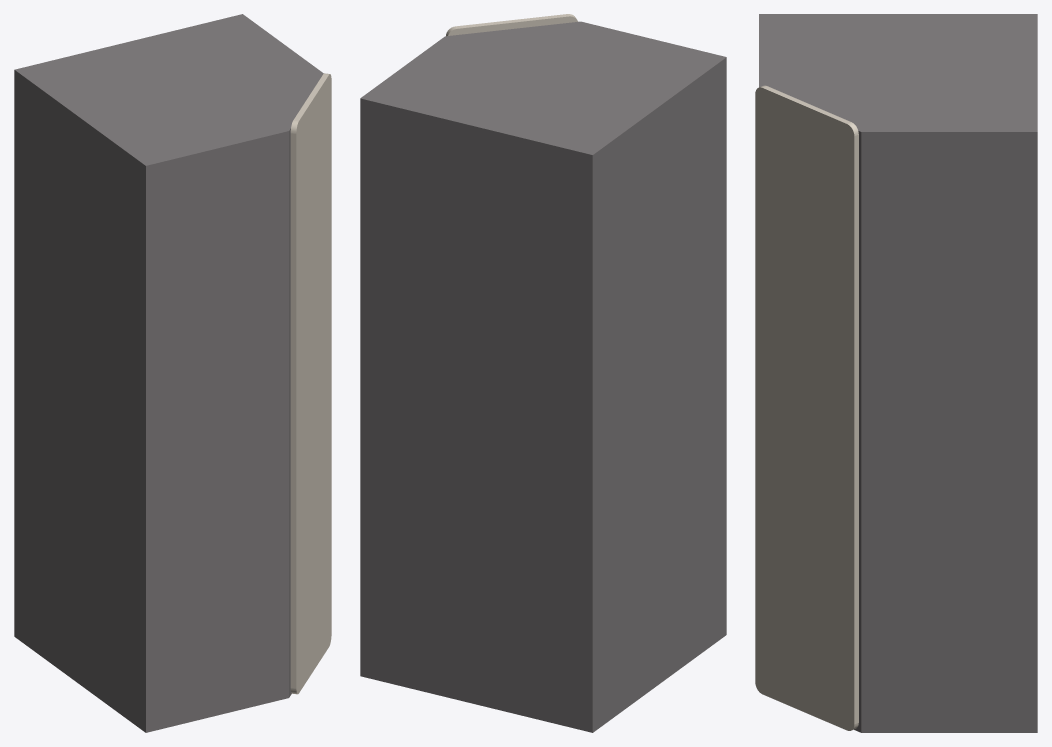
The model's file is 2pir_szafa_narozna.obj.
The picture shows the model from 3 angles, left to right: view 1: azimuth 30°, elevation 25°; view 2: azimuth 150°, elevation 25°; view 3: azimuth 270°, elevation 25°; orthographic projection. The views are drawn at different scales.
Visible parts, largest first — view 1: Line01, Rectangle10; view 2: Line01, Rectangle10; view 3: Line01, Rectangle10.
Part boxes in pixels (x1=…): Line01: x1=14, y1=14, x2=323, y2=732; Rectangle10: x1=290, y1=73, x2=331, y2=694; Line01: x1=360, y1=21, x2=726, y2=732; Rectangle10: x1=446, y1=14, x2=577, y2=36; Line01: x1=759, y1=14, x2=1037, y2=732; Rectangle10: x1=755, y1=85, x2=858, y2=730.
Bounding box in the file's own units: 91.21 × 216 × 91.25.
